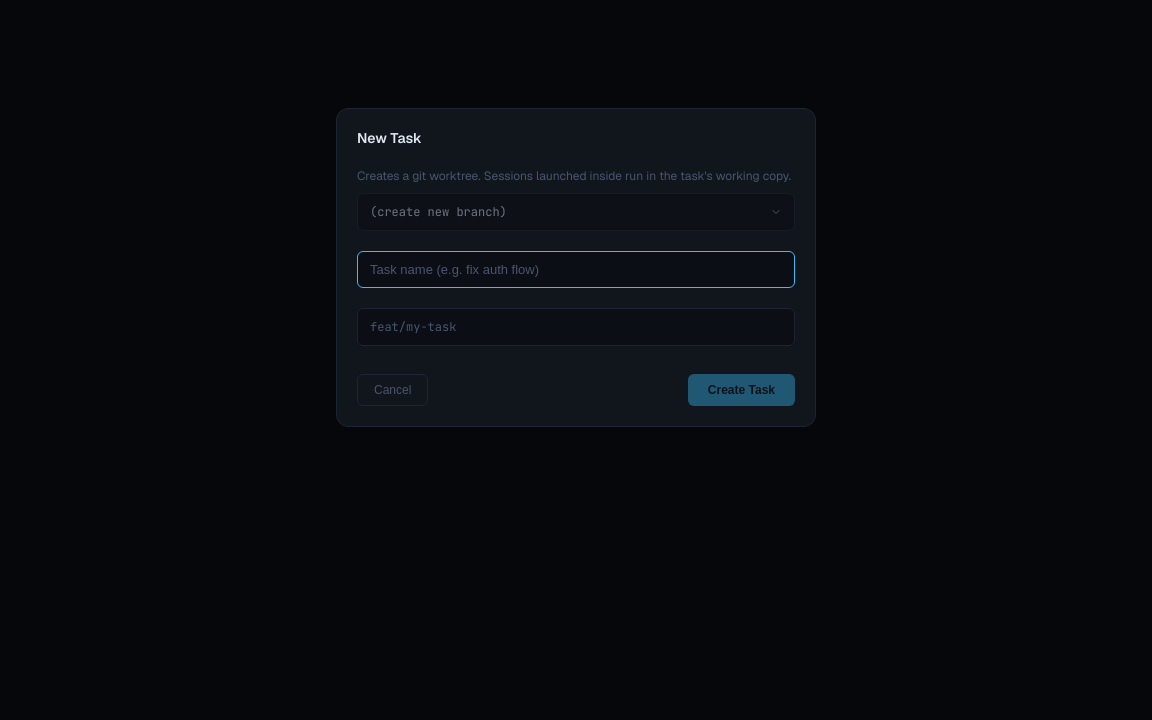
Scenario: TaskCreateModal › falls back to feat/task when name has no representable chars
Type "🚀🎉" into the field with placeholder "Task name (e.g. fix auth flow)" at (576, 270), box x1=357 y1=251 x2=795 y2=288
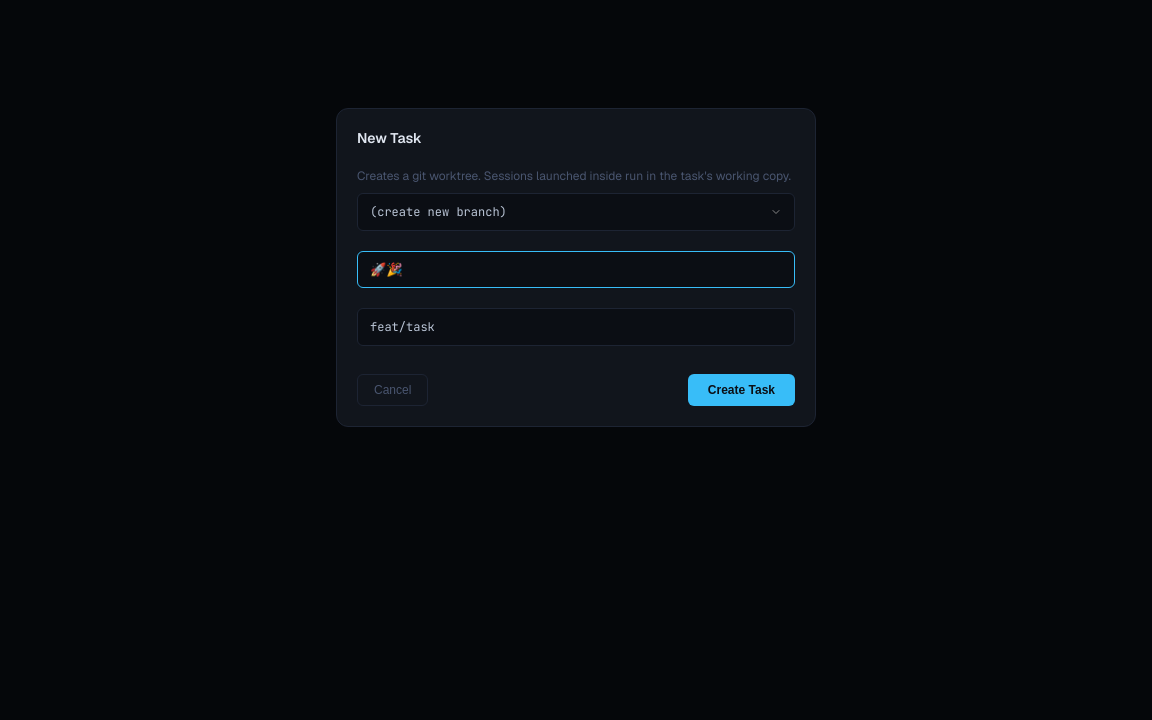
Check: the 2nd field with placeholder "feat/my-task" holds "feat/task", box x1=357 y1=308 x2=795 y2=346
